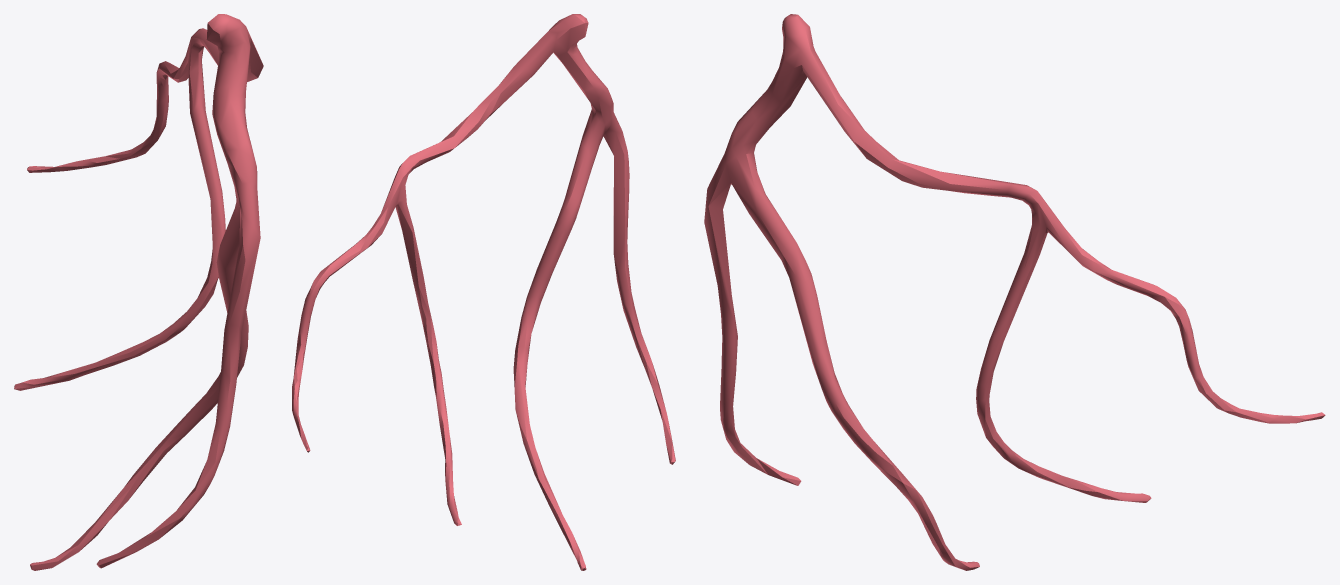
Rendered from fma50384_fj1659m.glb.
3 views of the same model, side by side, from view 1: azimuth 30°, elevation 25°; view 2: azimuth 150°, elevation 25°; view 3: azimuth 270°, elevation 25° (orthographic). The views are drawn at different scales.
Visible parts, largest first — view 1: FMA50384_FJ1659M; view 2: FMA50384_FJ1659M; view 3: FMA50384_FJ1659M.
Part boxes in pixels (x1,y1,x2,y2): FMA50384_FJ1659M: (14, 14, 263, 570); FMA50384_FJ1659M: (292, 14, 675, 570); FMA50384_FJ1659M: (704, 14, 1325, 570).
Size of the model in its own units: 0.0208 by 0.0444 by 0.0415.
